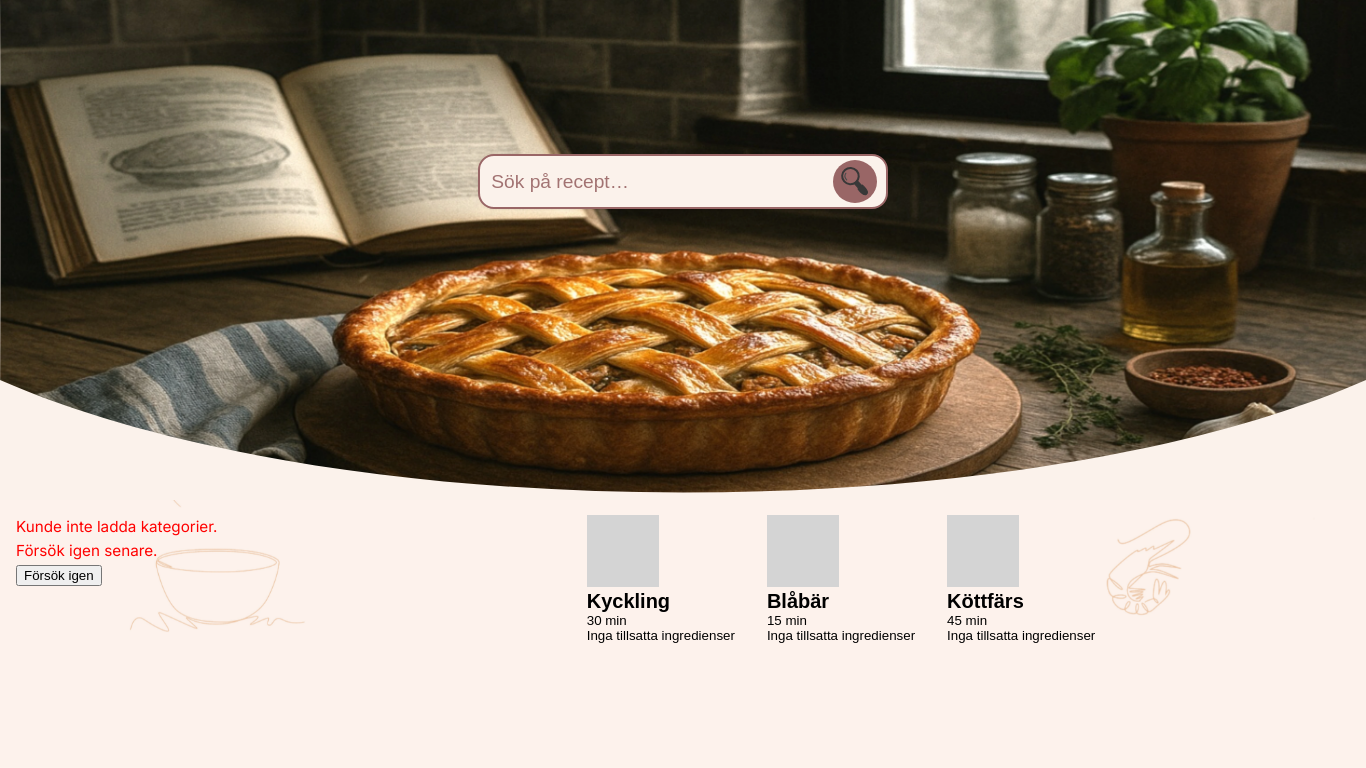
Scenario: HomePage — search filters recipe list and reset shows all › shrinks list on search and shows all again after empty submit
The width and height of the screenshot is (1366, 768).
Expected: the number of list items is 3, [587,515,735,643]; [767,515,915,643]; [947,515,1095,643]
In the search field: {"x": 683, "y": 182} [478,154,888,209], type "kyc"
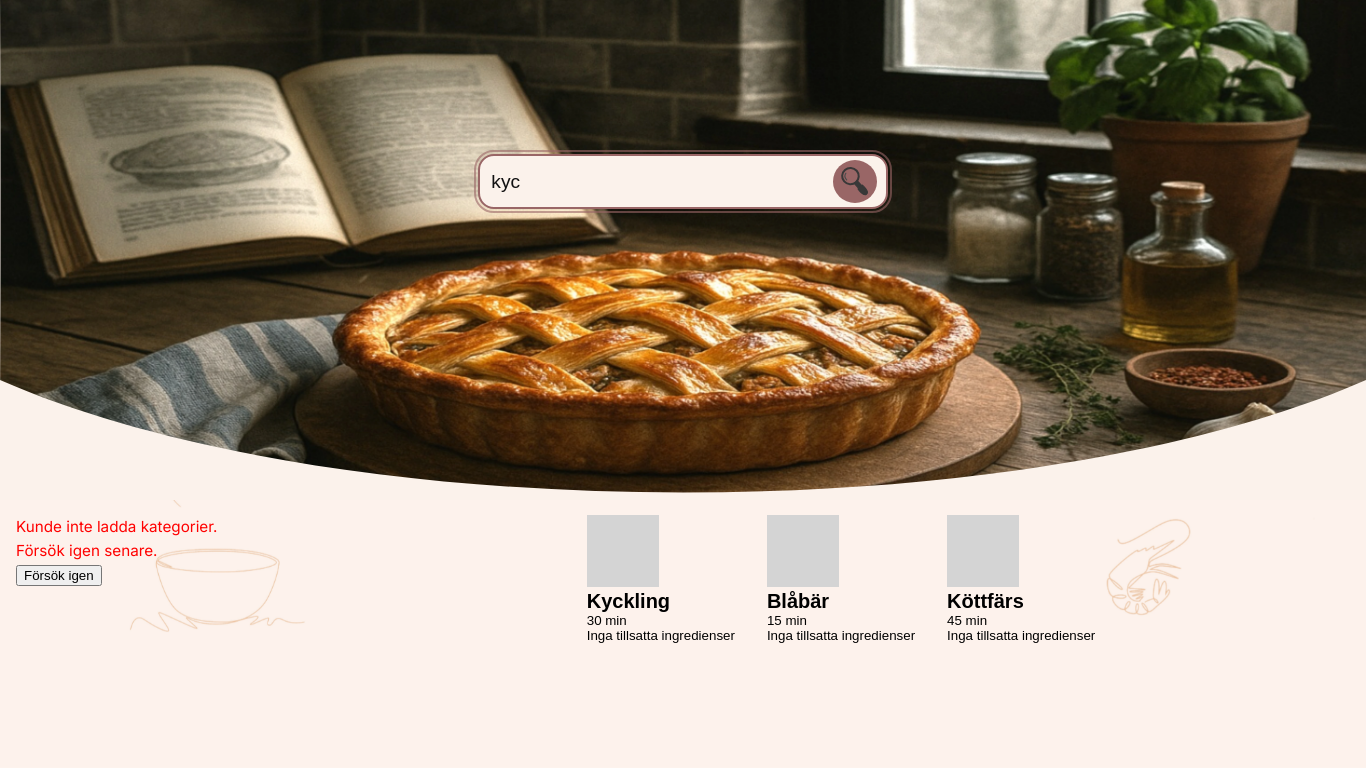
Click the button named "sök recept": {"x": 855, "y": 182} [828,154,882,209]
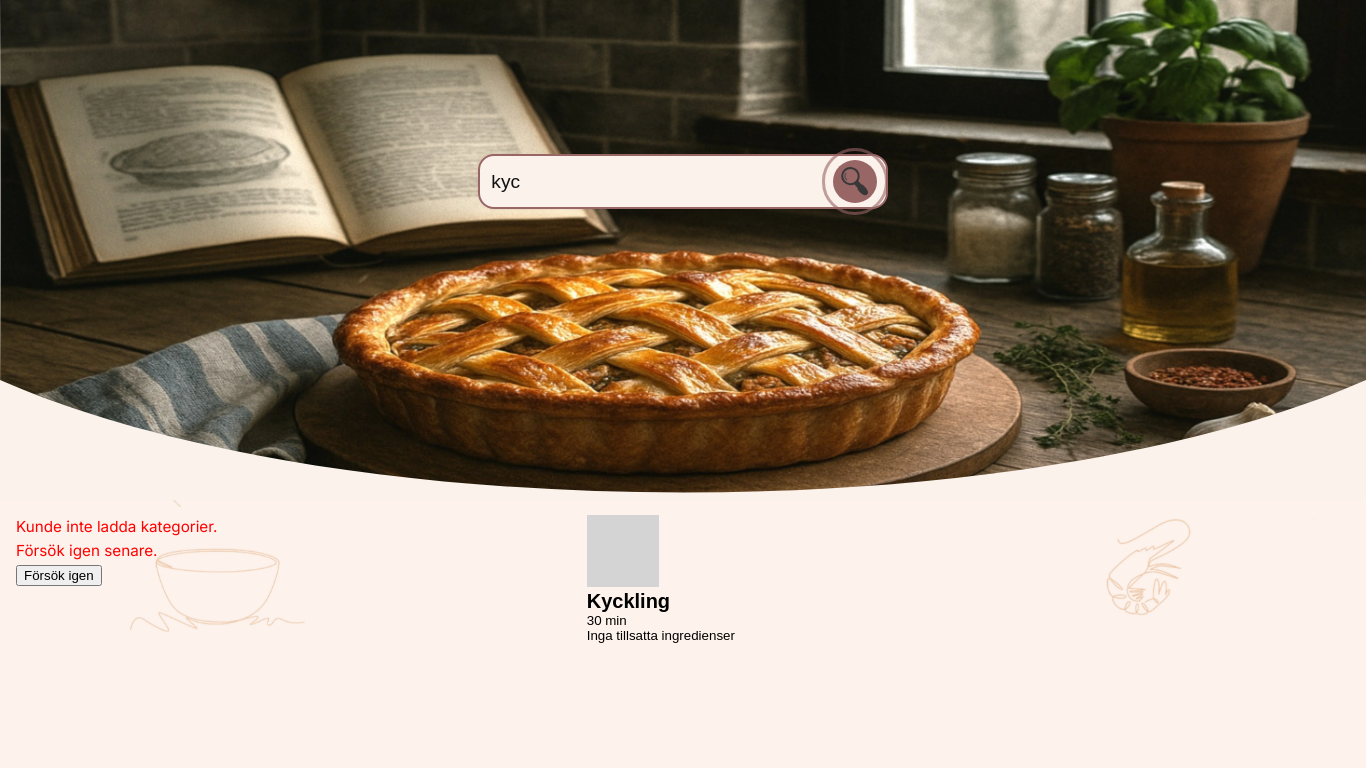
Expected: the number of list items is 1, [587,515,735,643]
Clear the search field: {"x": 683, "y": 182} [478,154,888,209]
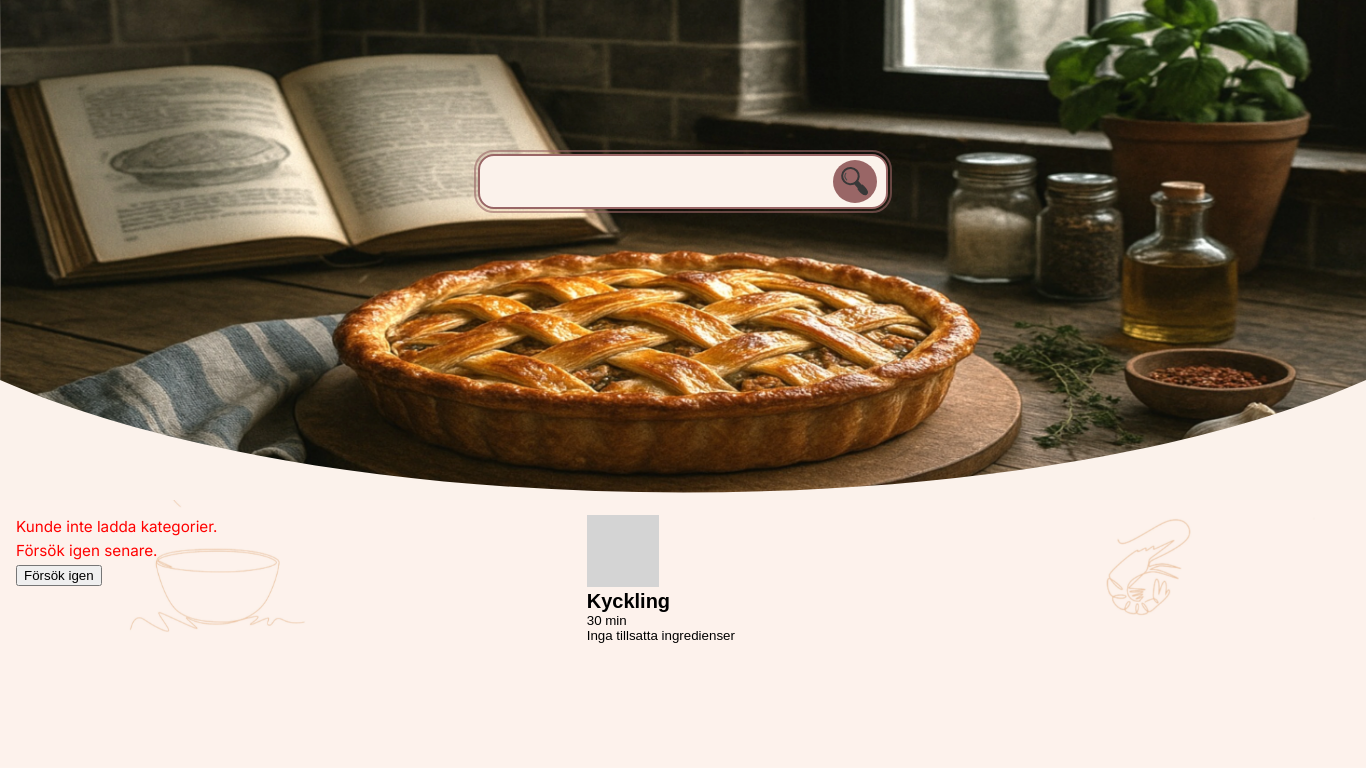
Click the button named "sök recept": {"x": 855, "y": 182} [828,154,882,209]
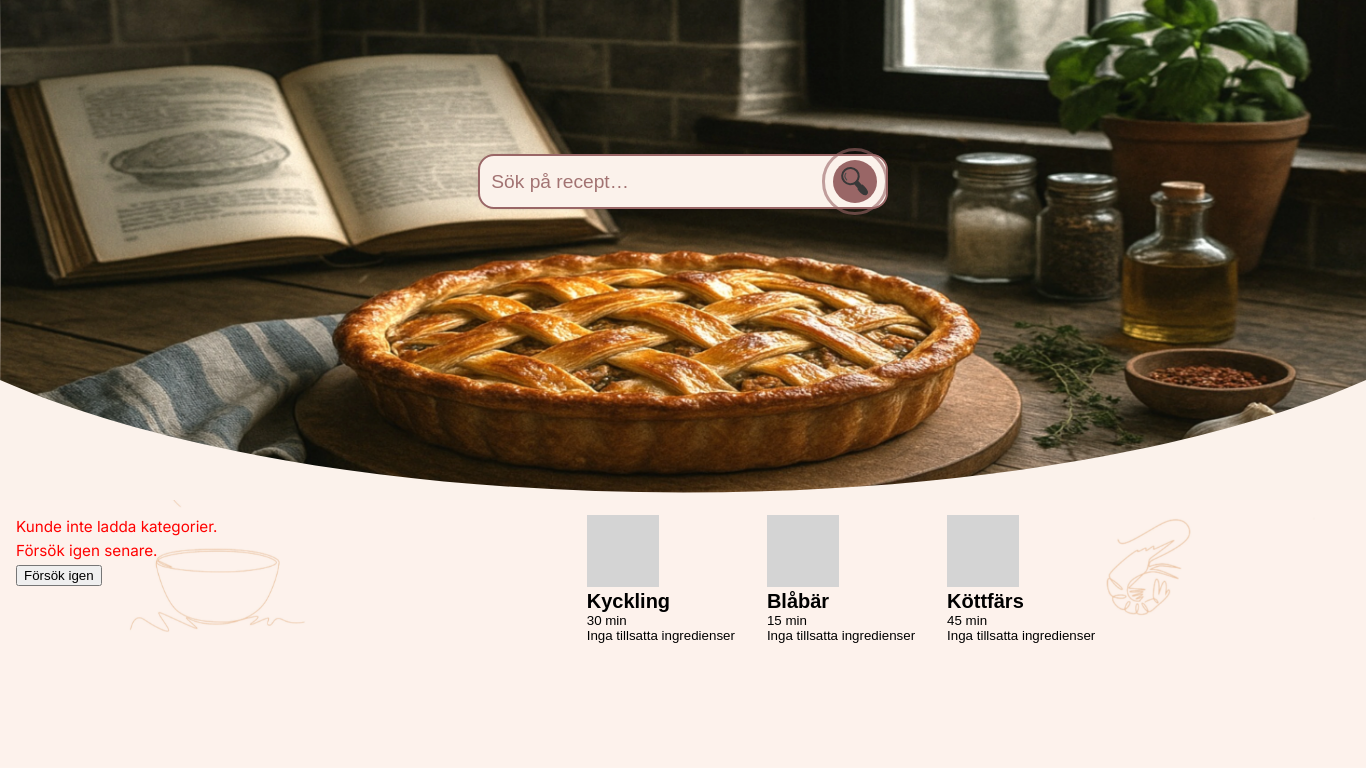
Now the number of list items is 3, box [587,515,735,643]; [767,515,915,643]; [947,515,1095,643]
